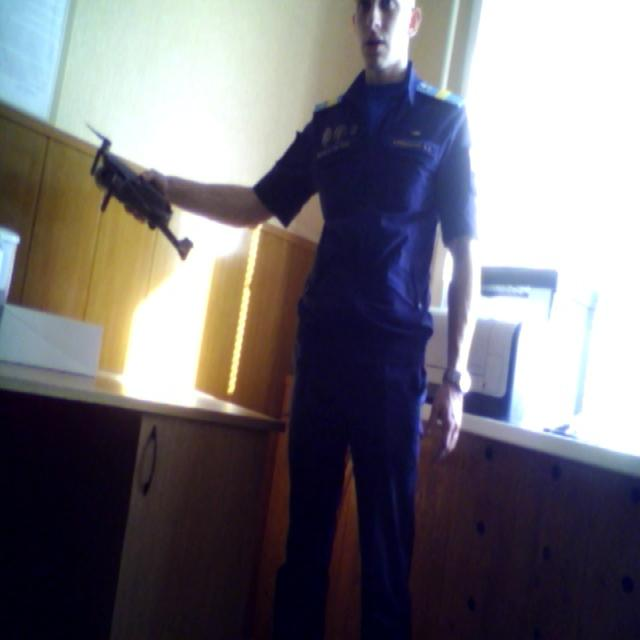drone: (76, 115, 220, 264)
